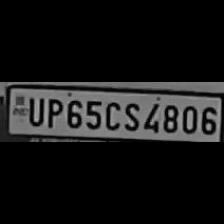0: (178, 102, 198, 134)
4: (140, 100, 160, 132)
5: (82, 97, 102, 129)
6: (62, 96, 82, 128), (198, 102, 216, 136)
8: (160, 101, 178, 133)
C: (103, 98, 120, 130)
P: (43, 96, 62, 128)
S: (120, 99, 140, 131)
U: (23, 94, 43, 126)
